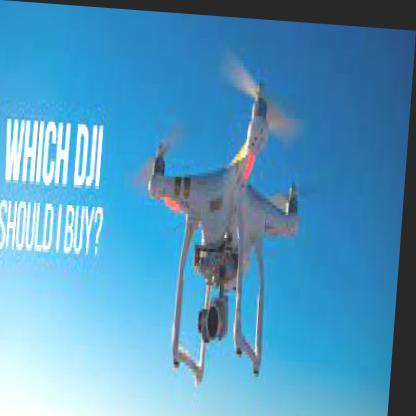UAS: (139, 40, 310, 384)
